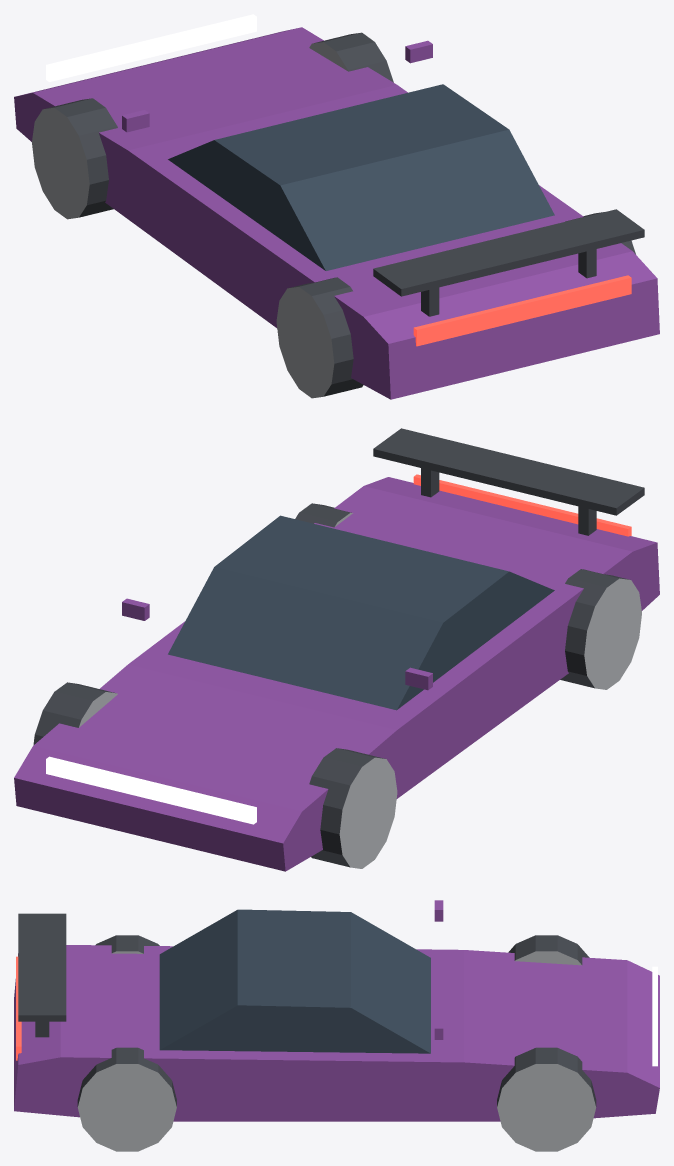
The model's file is sport_purple.glb.
3 views of the same model, one above another, from view 1: azimuth 30°, elevation 25°; view 2: azimuth 150°, elevation 25°; view 3: azimuth 270°, elevation 25° (orthographic). The views are drawn at different scales.
Visible parts, largest first — view 1: body, cabin, wheel (×3), spoiler, taillights, headlights; view 2: body, cabin, wheel (×4), spoiler, headlights, taillights; view 3: body, cabin, wheel (×4), spoiler, headlights, taillights.
Part boxes in pixels (x1,y1,x2,y2): body: (14,27,659,399); cabin: (168,84,554,270); wheel (×3): (32,32,393,398); spoiler: (373,209,644,296); taillights: (413,275,631,346); headlights: (46,14,256,81); body: (14,477,659,871); cabin: (168,515,554,710); wheel (×4): (33,503,641,868); spoiler: (373,428,644,515); headlights: (46,756,256,824); taillights: (413,474,631,536); body: (14,945,659,1121); cabin: (159,909,430,1053); wheel (×4): (77,935,596,1151); spoiler: (18,913,66,1021); headlights: (652,966,657,1066); taillights: (16,956,21,1060).
Size of the model in its own units: 2.15 by 1.01 by 4.56.
